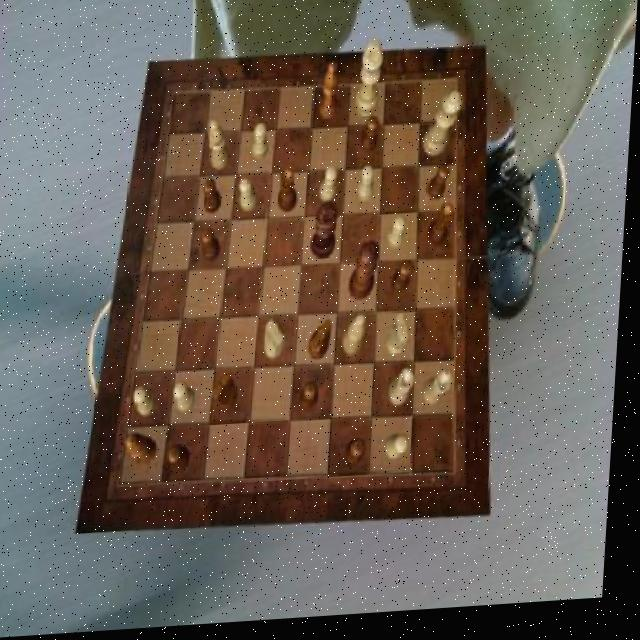bishop: (128, 435, 163, 471), (319, 66, 341, 123)
black-bishop: (313, 205, 342, 264)
black-king: (214, 374, 242, 414), (312, 325, 337, 366)
black-knight: (430, 170, 452, 207), (204, 180, 225, 217), (394, 265, 416, 300), (203, 229, 224, 265), (362, 121, 381, 160), (172, 447, 196, 474), (350, 444, 371, 471), (304, 387, 324, 415)
black-pawn: (351, 246, 383, 305)
black-queen: (430, 209, 457, 255), (281, 171, 302, 218)
black-rook: (208, 121, 234, 173), (345, 320, 370, 361)
white-bishop: (355, 46, 383, 126)
white-king: (389, 319, 413, 362), (268, 324, 291, 365)
white-knight: (137, 388, 162, 420), (176, 384, 200, 416), (254, 126, 272, 164), (359, 171, 377, 208), (389, 221, 408, 256), (322, 171, 341, 206), (241, 181, 260, 216), (390, 438, 414, 465)
white-pawn: (423, 97, 464, 164)
white-queen: (426, 377, 457, 412), (392, 374, 418, 413)
